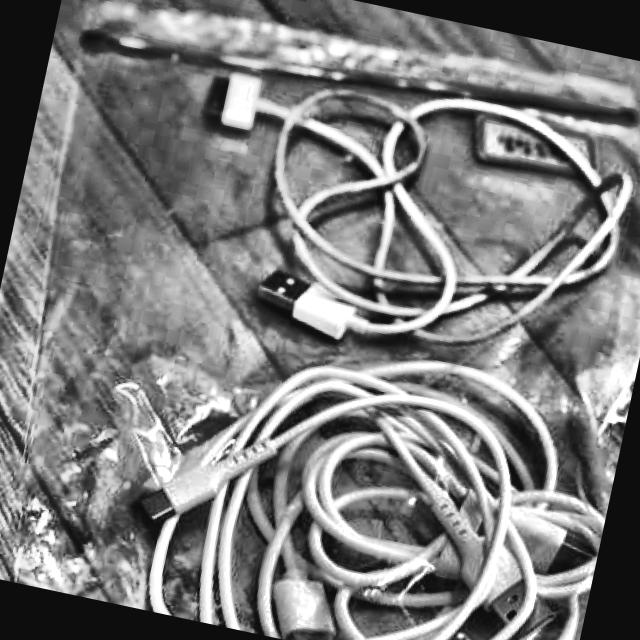Cable: (113, 304, 629, 640), (166, 40, 640, 396)
